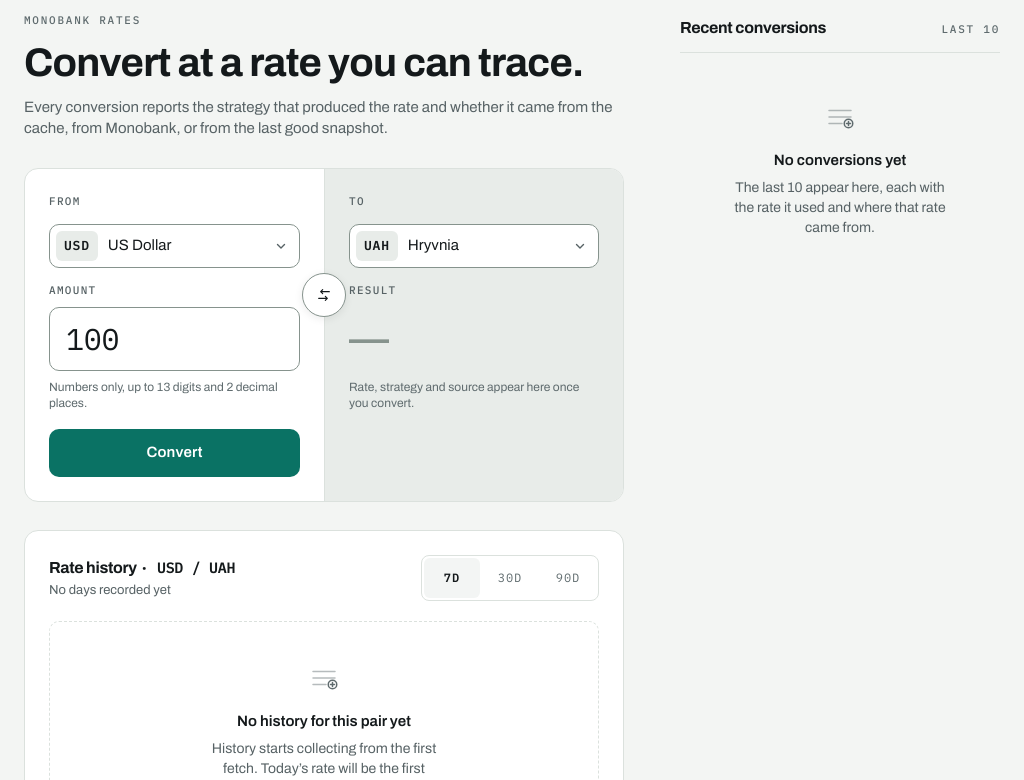
it: the two-pane card › stands the answer in while the first one is on its way
Click the button "Convert": (174,453) [49,429,300,477]
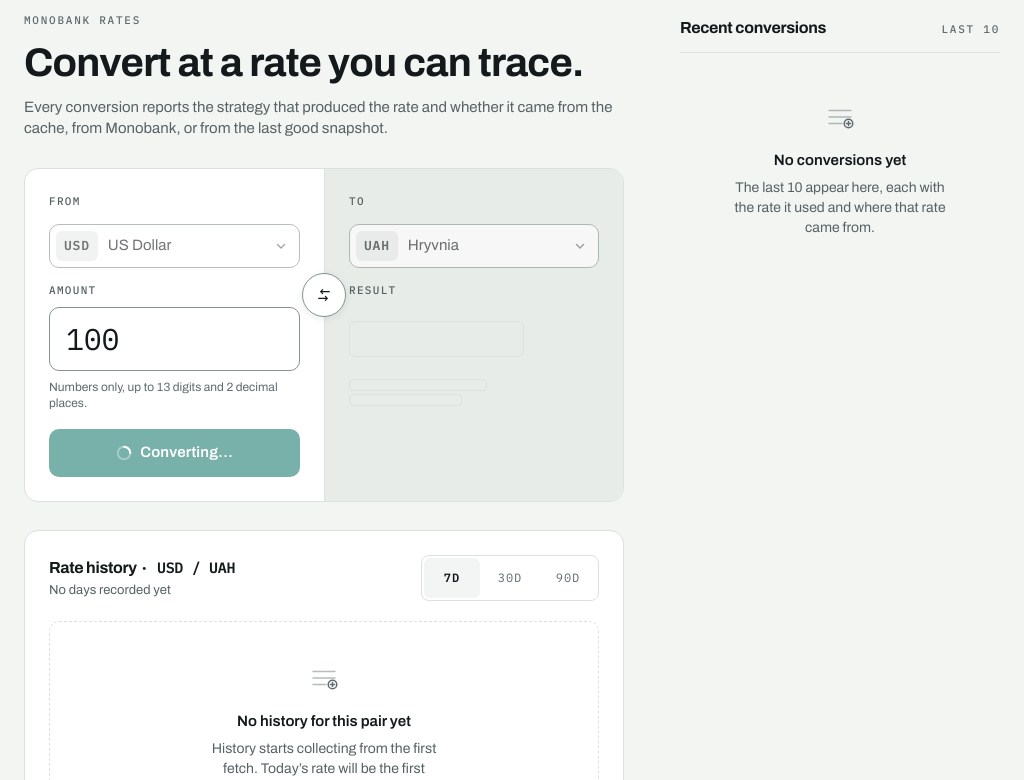
Result: the text "—" is gone
